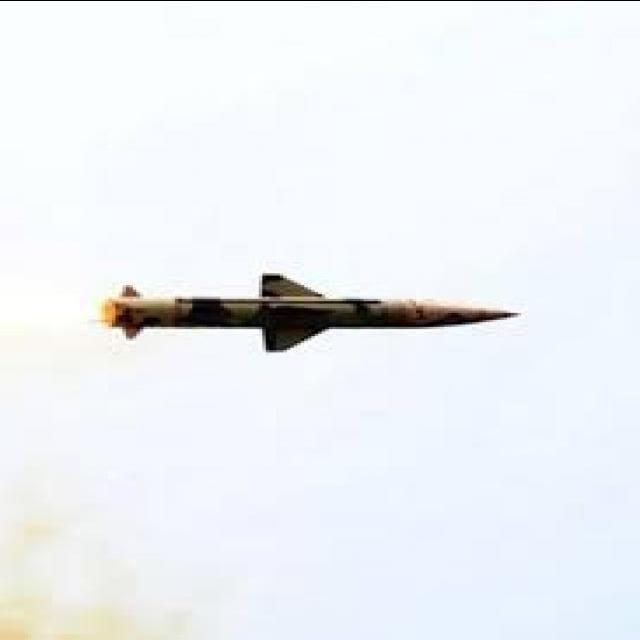missile: (98, 273, 516, 353)
